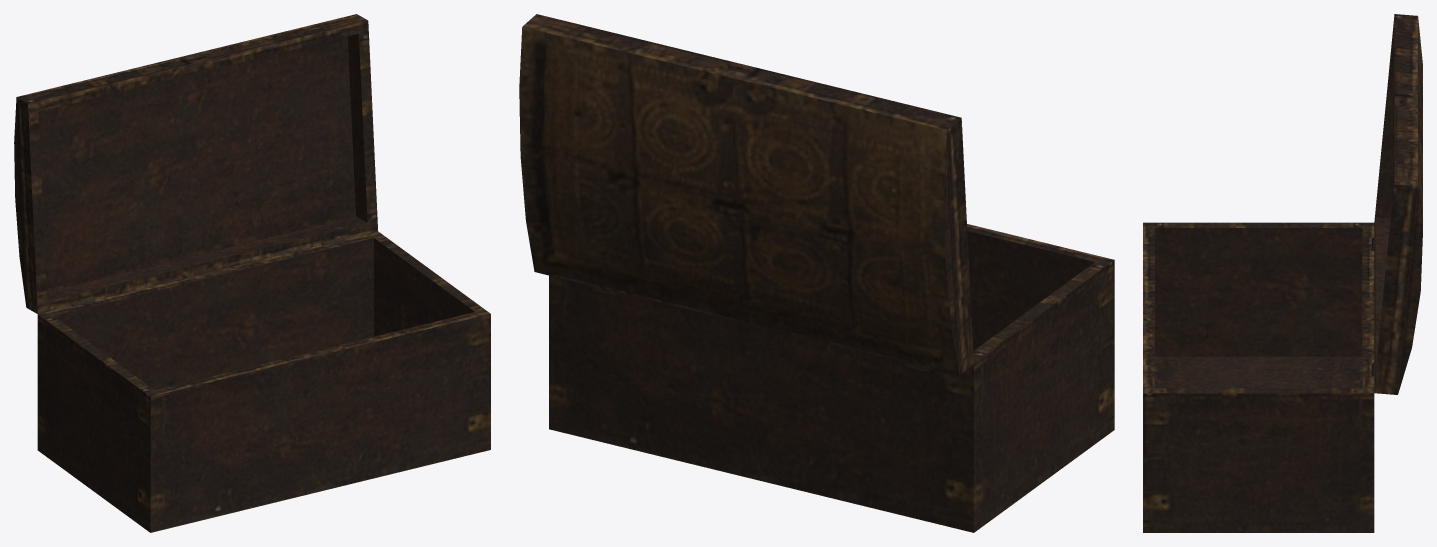
File: wooden_crate_3.obj
3 renders of one model, left to right at view 1: azimuth 30°, elevation 25°; view 2: azimuth 150°, elevation 25°; view 3: azimuth 270°, elevation 25°, orthographic. The views are drawn at different scales.
Parts seen in each view (by area): view 1: wooden_crate_3, wooden_crate_3_lid; view 2: wooden_crate_3_lid, wooden_crate_3; view 3: wooden_crate_3, wooden_crate_3_lid.
Boxes of the visible parts, left/top/right/bottom form: wooden_crate_3: left=37, top=231, right=490, bottom=532; wooden_crate_3_lid: left=14, top=14, right=377, bottom=313; wooden_crate_3_lid: left=519, top=14, right=973, bottom=375; wooden_crate_3: left=549, top=224, right=1114, bottom=532; wooden_crate_3: left=1143, top=222, right=1374, bottom=532; wooden_crate_3_lid: left=1374, top=14, right=1422, bottom=394.
Bounding box in the file's own units: 0.68 × 0.6485 × 0.472.
